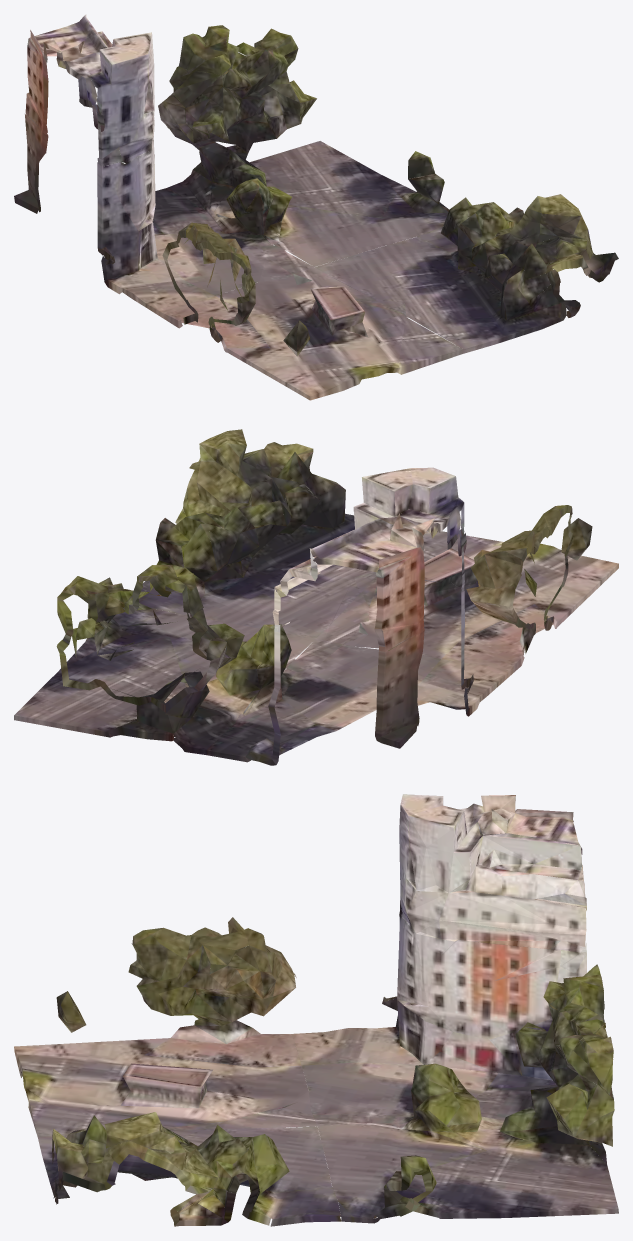
3 renders of one model, top to bottom at view 1: azimuth 30°, elevation 25°; view 2: azimuth 150°, elevation 25°; view 3: azimuth 270°, elevation 25°, orthographic. The views are drawn at different scales.
Visible parts, largest first — view 1: Mesh_0; view 2: Mesh_0; view 3: Mesh_0.
Boxes of the visible parts, bbox=[...] form: Mesh_0: bbox=[14, 14, 618, 400]; Mesh_0: bbox=[14, 429, 618, 765]; Mesh_0: bbox=[14, 794, 618, 1226].
Bounding box in the file's own units: 67.2 × 38.38 × 82.4.
Materials: 2 (2 with a texture image).
